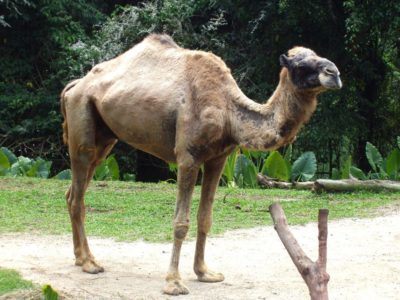camel: (58, 28, 345, 287)
